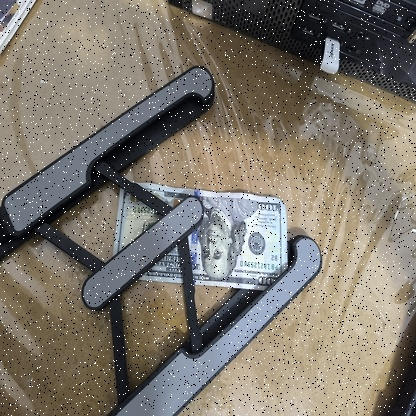one_hundred-front: (111, 180, 293, 296)
